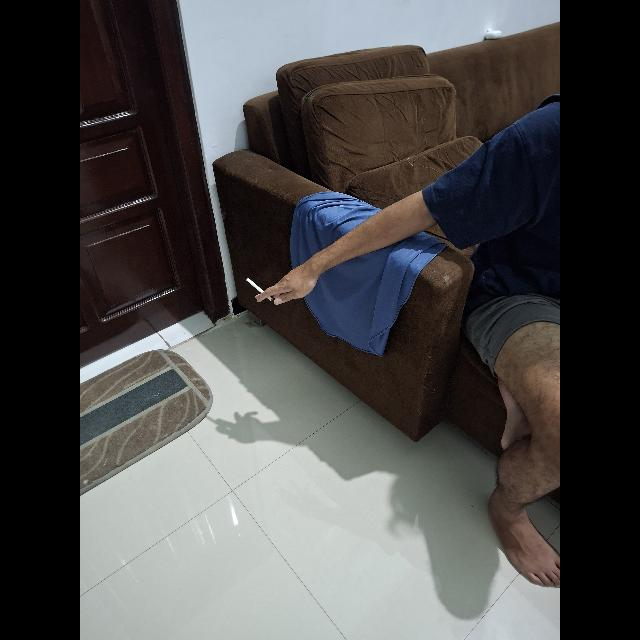rokok: (244, 275, 274, 305)
